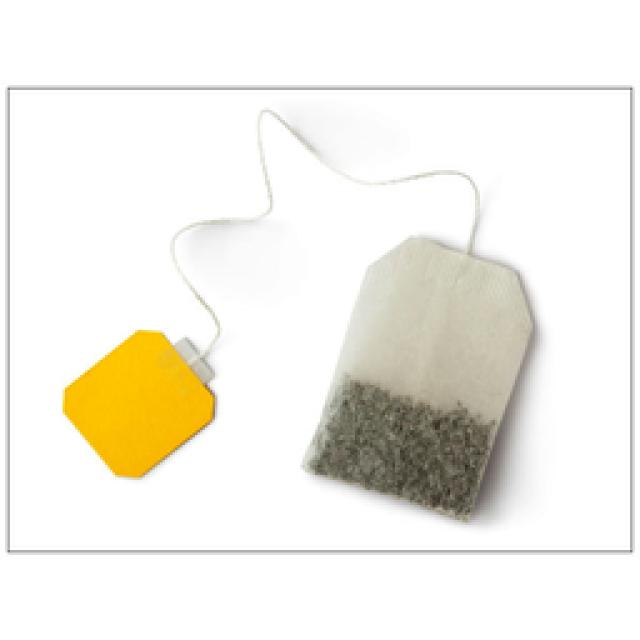tea-bags: (305, 238, 530, 518)
